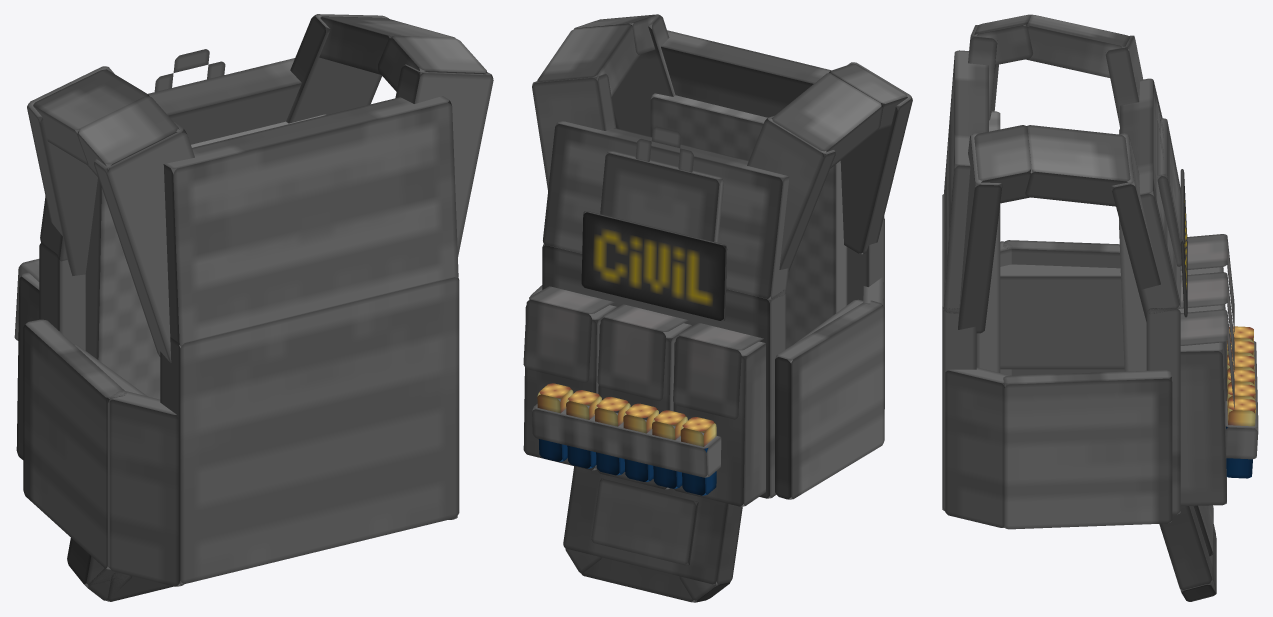
Rendered from civilian.obj.
The picture shows the model from 3 angles, left to right: view 1: azimuth 30°, elevation 25°; view 2: azimuth 150°, elevation 25°; view 3: azimuth 270°, elevation 25°; orthographic projection. The views are drawn at different scales.
Visible parts, largest first — view 1: plane; view 2: plane; view 3: plane.
Part boxes in pixels (<box>): plane: <box>14,14,493,601</box>; plane: <box>523,14,912,602</box>; plane: <box>942,14,1258,601</box>.
Bounding box in the file's own units: 0.6959 × 1.01 × 0.5806.
